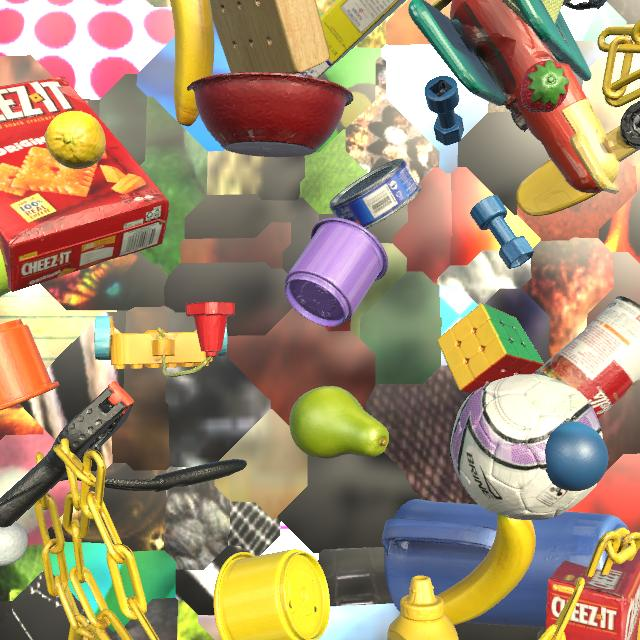ycb_003_cracker_box: (0, 76, 169, 292), (545, 549, 640, 640)
ycb_004_sugar_box: (297, 0, 406, 78)
ycb_005_tomato_soup_can: (534, 296, 640, 419)
ycb_006_mustard_bottle: (387, 576, 459, 640), (637, 547, 640, 640)
ycb_007_tuna_fish_can: (329, 158, 422, 229)
ycb_011_banana: (437, 514, 536, 625), (170, 0, 214, 126)
ycb_012_strawberry: (521, 60, 569, 113)
ycb_014_lemon: (45, 111, 106, 169)
ycb_016_pear: (289, 386, 389, 459)
